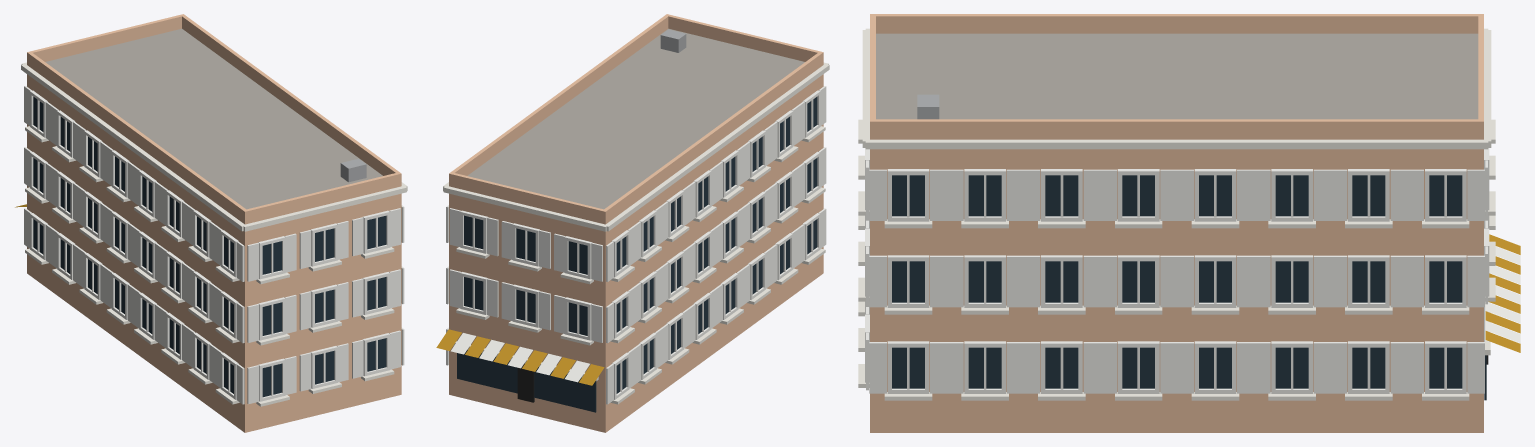
3 views of the same model, side by side, from view 1: azimuth 30°, elevation 25°; view 2: azimuth 150°, elevation 25°; view 3: azimuth 270°, elevation 25° (orthographic). The views are drawn at different scales.
Parts seen in each view (by area): view 1: b1902; view 2: b1902; view 3: b1902.
Part boxes in pixels (x1,y1,x2,y2): b1902: (15,14,407,432); b1902: (436,14,829,432); b1902: (858,14,1520,432).
Bounding box in the file's own units: 3801 × 4725 × 9052.
